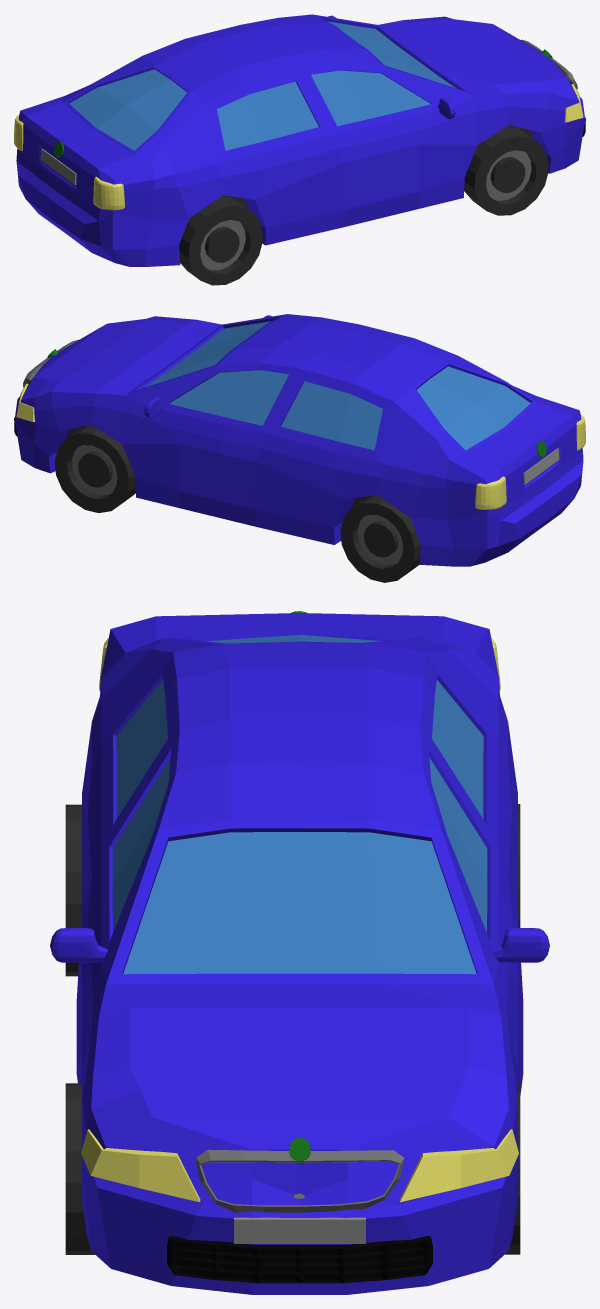
The model's file is Car2.glb.
3 views of the same model, one above another, from view 1: azimuth 30°, elevation 25°; view 2: azimuth 150°, elevation 25°; view 3: azimuth 270°, elevation 25° (orthographic). The views are drawn at different scales.
Visible parts, largest first — view 1: Auto, KolaPredni.001, KolaZadni.001, SvetlaZadni, SPZZadni; view 2: Auto, KolaPredni, KolaZadni, SvetlaZadni, SPZZadni; view 3: Auto, Naraznik, SvetlaPredni, Grill, SPZPredni, Zrdcatka, KolaPredni.001, KolaZadni.001.
Boxes of the visible parts, left/top/right/bottom form: Auto: left=16, top=14, right=585, bottom=266; KolaPredni.001: left=464, top=126, right=548, bottom=215; KolaZadni.001: left=179, top=196, right=262, bottom=285; SvetlaZadni: left=14, top=115, right=124, bottom=210; SPZZadni: left=40, top=148, right=76, bottom=184; Auto: left=14, top=314, right=583, bottom=566; KolaPredni: left=54, top=425, right=135, bottom=512; KolaZadni: left=340, top=494, right=420, bottom=582; SvetlaZadni: left=475, top=415, right=585, bottom=509; SPZZadni: left=523, top=448, right=559, bottom=484; Auto: left=76, top=613, right=523, bottom=1294; Naraznik: left=167, top=1236, right=432, bottom=1283; SvetlaPredni: left=81, top=1129, right=518, bottom=1202; Grill: left=195, top=1149, right=404, bottom=1212; SPZPredni: left=234, top=1217, right=365, bottom=1243; Zrdcatka: left=50, top=928, right=549, bottom=962; KolaPredni.001: left=65, top=1083, right=95, bottom=1254; KolaZadni.001: left=65, top=804, right=81, bottom=976.
Bounding box in the file's own units: 3.47 × 1.13 × 1.47.
